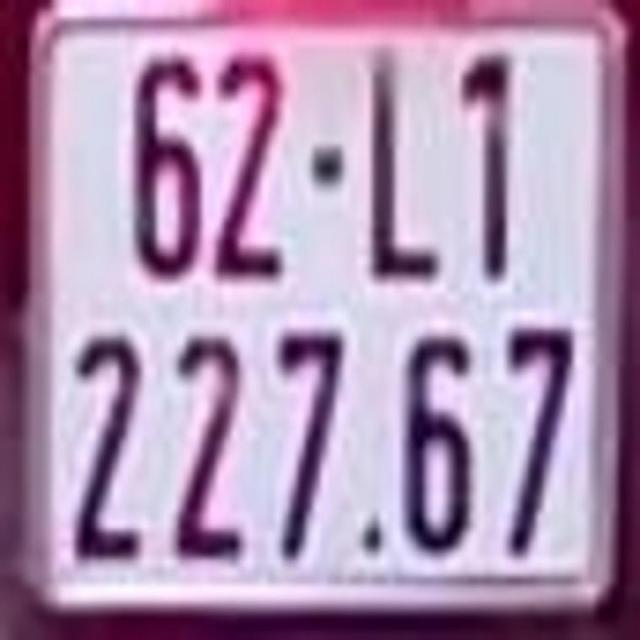1: (462, 52, 533, 278)
2: (177, 339, 251, 560), (74, 337, 147, 554), (222, 59, 285, 287)
6: (405, 340, 486, 551), (136, 67, 203, 271)
7: (267, 330, 354, 565), (508, 340, 581, 548)
L: (370, 49, 449, 282)
